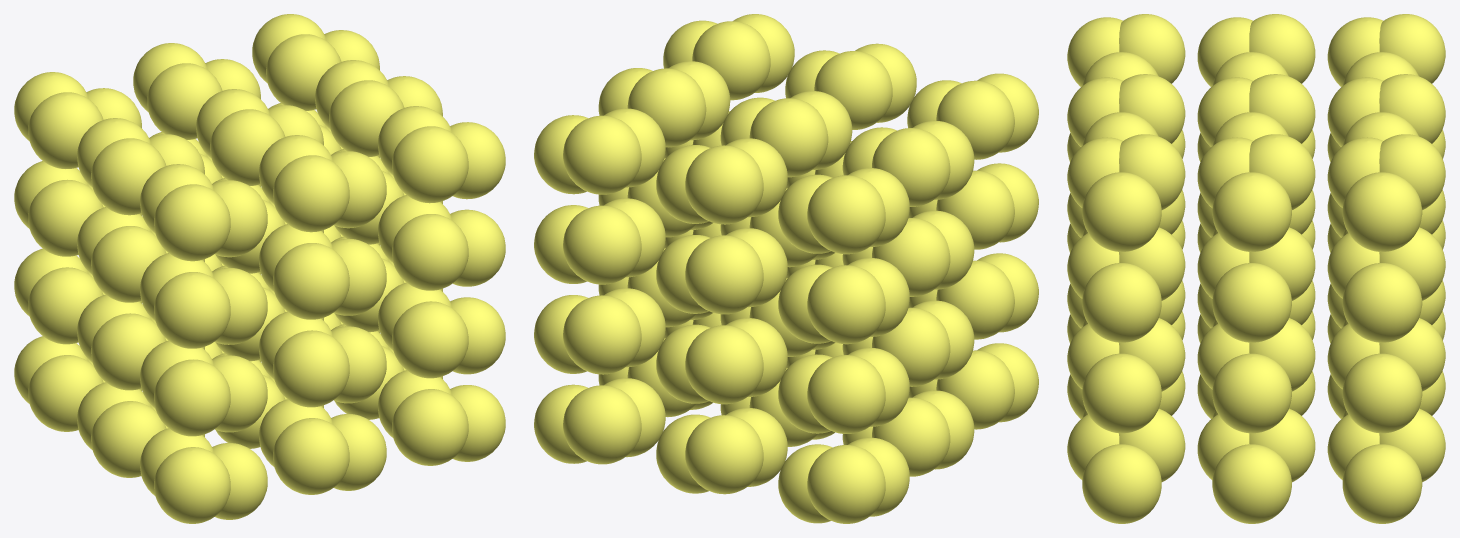
The model's file is sulfurlatt.glb.
3 views of the same model, side by side, from view 1: azimuth 30°, elevation 25°; view 2: azimuth 150°, elevation 25°; view 3: azimuth 270°, elevation 25° (orthographic). The views are drawn at different scales.
Parts seen in each view (by area): view 1: Sulfur_ball (×72); view 2: Sulfur_ball (×81); view 3: Sulfur_ball (×75).
Part boxes in pixels (x1,y1,x2,y2): Sulfur_ball (×72): (14, 14, 505, 523); Sulfur_ball (×81): (534, 14, 1038, 523); Sulfur_ball (×75): (1067, 14, 1445, 523).
Size of the model in its own units: 10.65 by 10.22 by 9.66.
